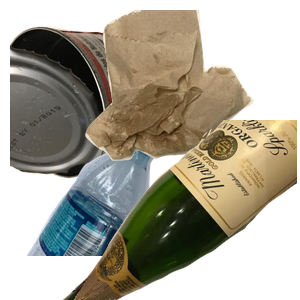glass: (60, 120, 300, 300)
metal: (10, 23, 193, 194)
plastic: (24, 120, 182, 300)
trash: (83, 10, 300, 163)
